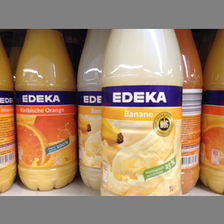juice: (101, 29, 185, 195), (15, 29, 76, 191)
